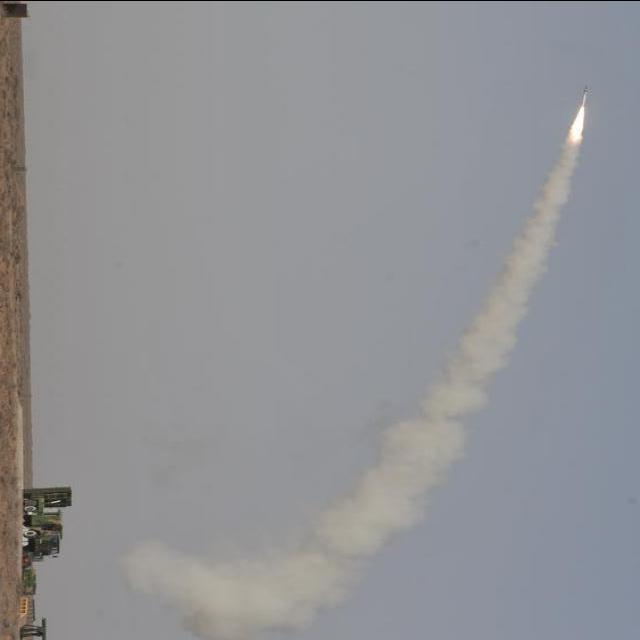missile: (581, 82, 590, 104)
